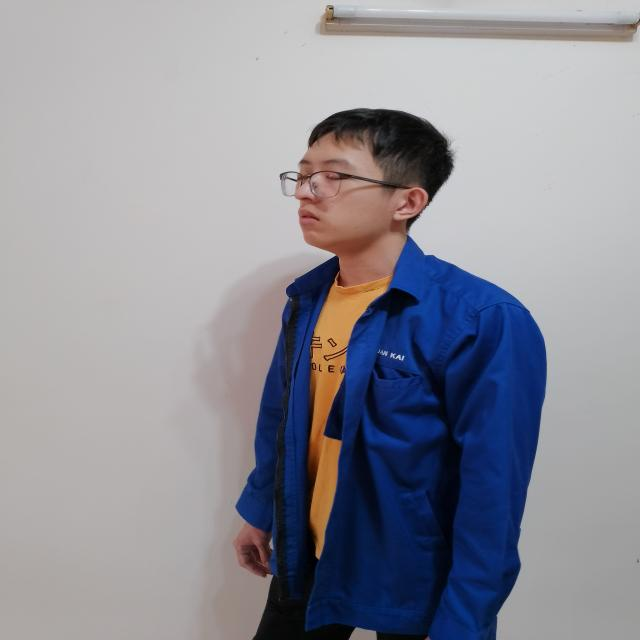person_with_labcoat: (234, 109, 546, 640)
